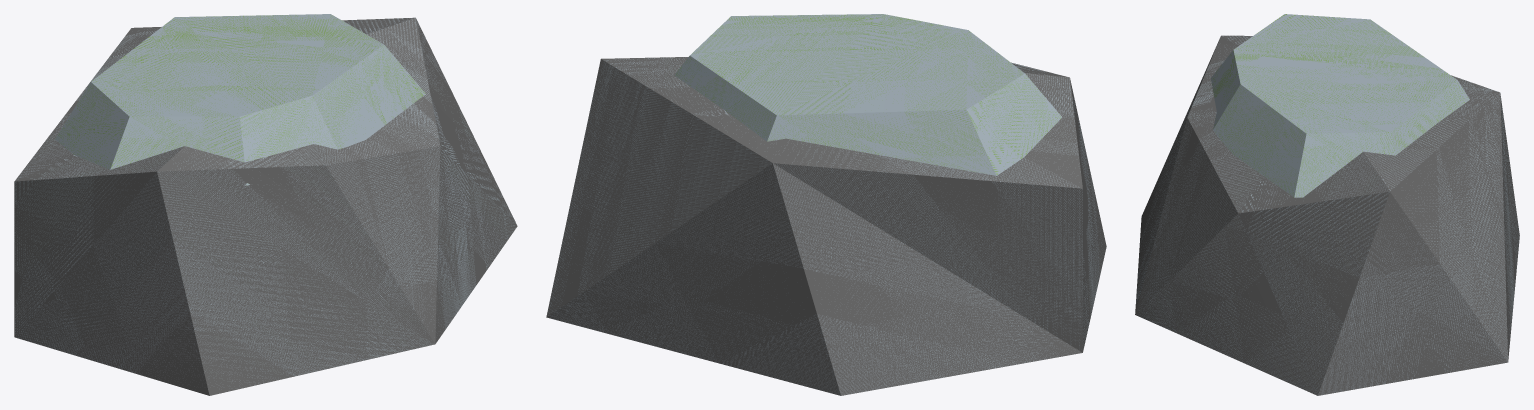
Rendered from Rock_Small_Grass_04.fbx.
The picture shows the model from 3 angles, left to right: view 1: azimuth 30°, elevation 25°; view 2: azimuth 150°, elevation 25°; view 3: azimuth 270°, elevation 25°; orthographic projection. The views are drawn at different scales.
Visible parts, largest first — view 1: Model; view 2: Model; view 3: Model.
Part boxes in pixels (bbox=[...]): Model: bbox=[14, 14, 517, 395]; Model: bbox=[546, 14, 1106, 395]; Model: bbox=[1135, 14, 1519, 395].
Bounding box in the file's own units: 190 × 103 × 142.
